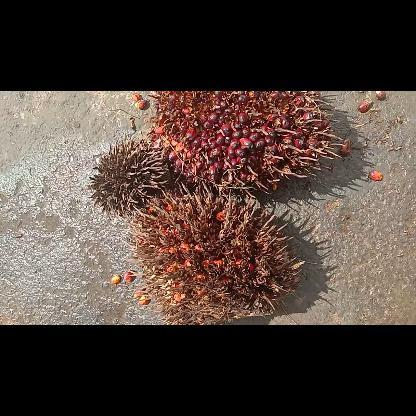Janjang kosong: (88, 137, 174, 217)
TBS masak: (146, 91, 342, 197)
Terlalu masak: (127, 182, 305, 324)
